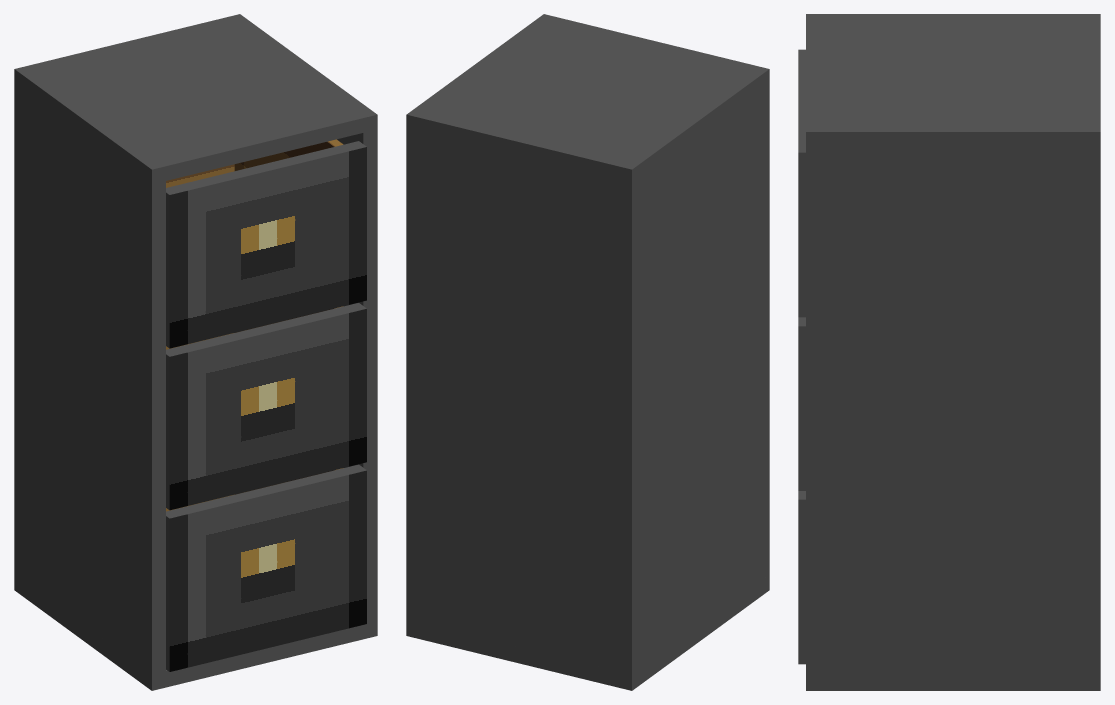
File: employment_cabinet.glb
3 renders of one model, left to right at view 1: azimuth 30°, elevation 25°; view 2: azimuth 150°, elevation 25°; view 3: azimuth 270°, elevation 25°, orthographic. The views are drawn at different scales.
Visible parts, largest first — view 1: Cabinet_Shell, Drawer_3, Drawer_2, Drawer_1; view 2: Cabinet_Shell; view 3: Cabinet_Shell, Drawer_3, Drawer_1, Drawer_2.
Part boxes in pixels (box(x1,y1,x2,y2)): Cabinet_Shell: box(14, 14, 377, 690); Drawer_3: box(166, 139, 366, 348); Drawer_2: box(166, 303, 366, 510); Drawer_1: box(166, 464, 366, 671); Cabinet_Shell: box(406, 14, 769, 690); Cabinet_Shell: box(806, 14, 1100, 690); Drawer_3: box(798, 49, 805, 317); Drawer_1: box(798, 491, 805, 664); Drawer_2: box(798, 317, 805, 490).
Bounding box in the file's own units: 0.72 × 1.59 × 0.78.
Materials: 1 (1 with a texture image).
